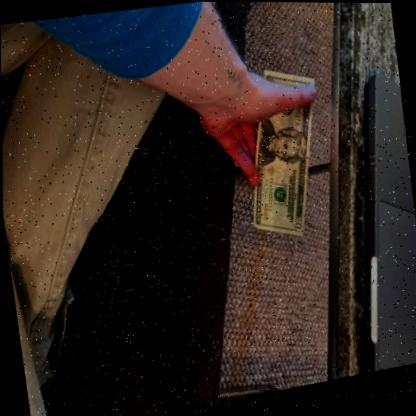twenty-front: (252, 74, 315, 243)
